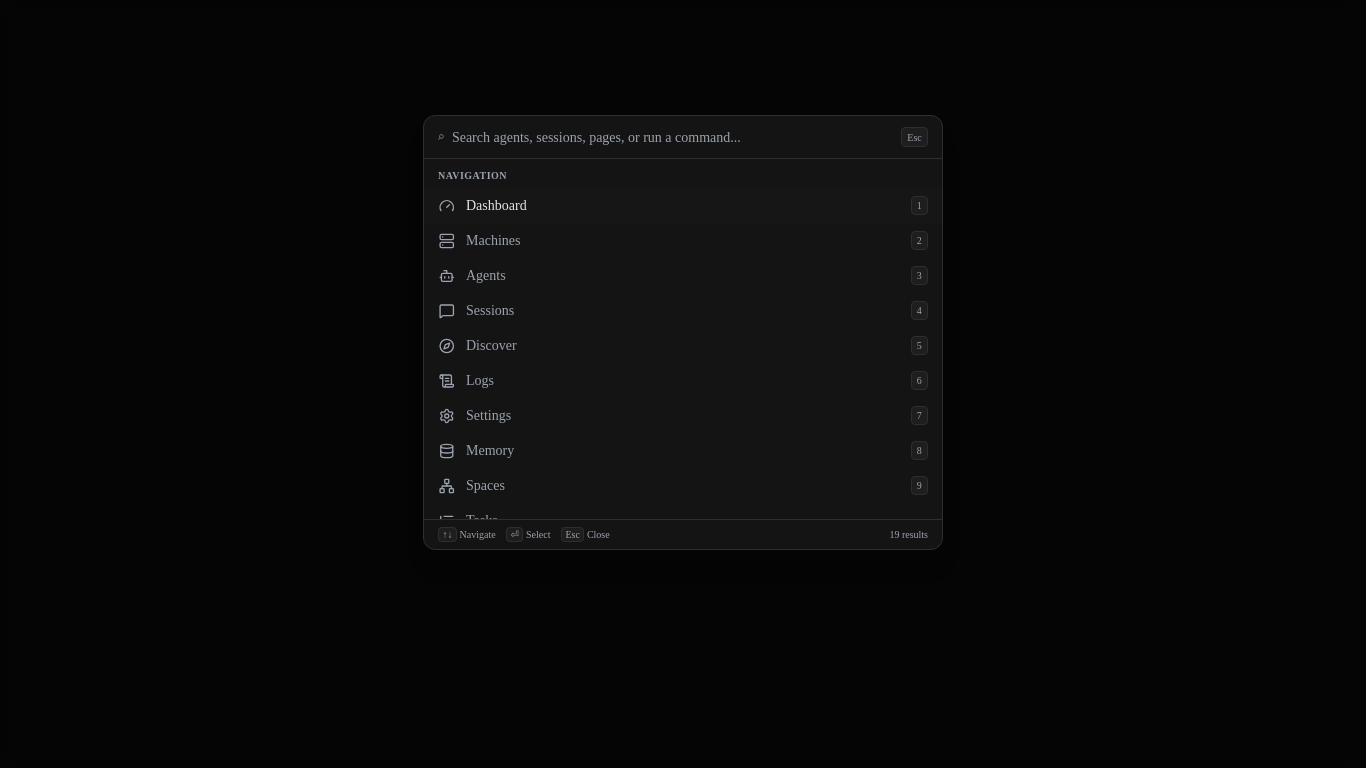
Test case: CommandPalette › search results are grouped by Agents, Sessions, and Pages
The width and height of the screenshot is (1366, 768).
Type "deploy" into the field with placeholder "Search agents, sessions, pages, or run a command...".
click(673, 137); type("deploy")  # box [452,127,894,148]
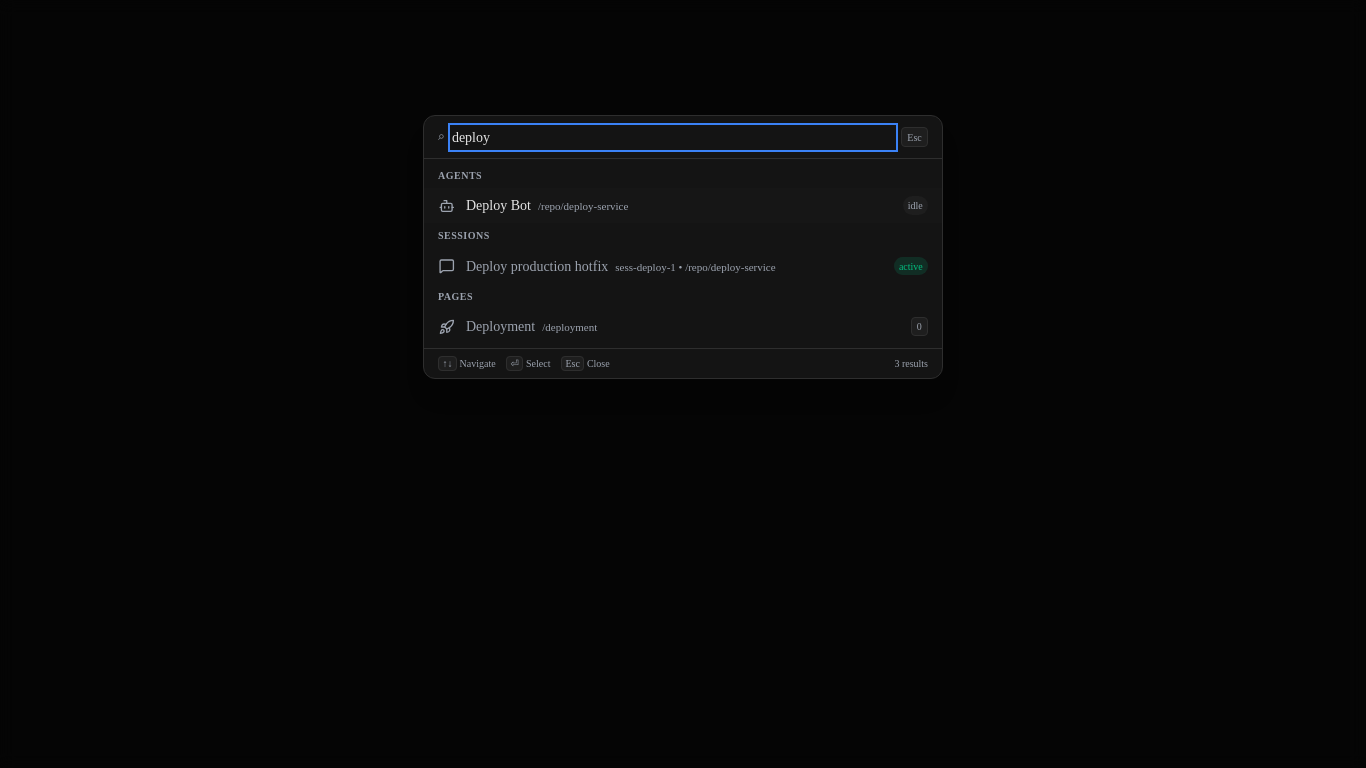
Check: the text "Pages" is shown, box [438,291,473,302]
Check: the text "Deploy Bot" is shown, box [466,198,531,213]
Check: the text "Deploy production hotfix" is shown, box [466,259,608,274]
